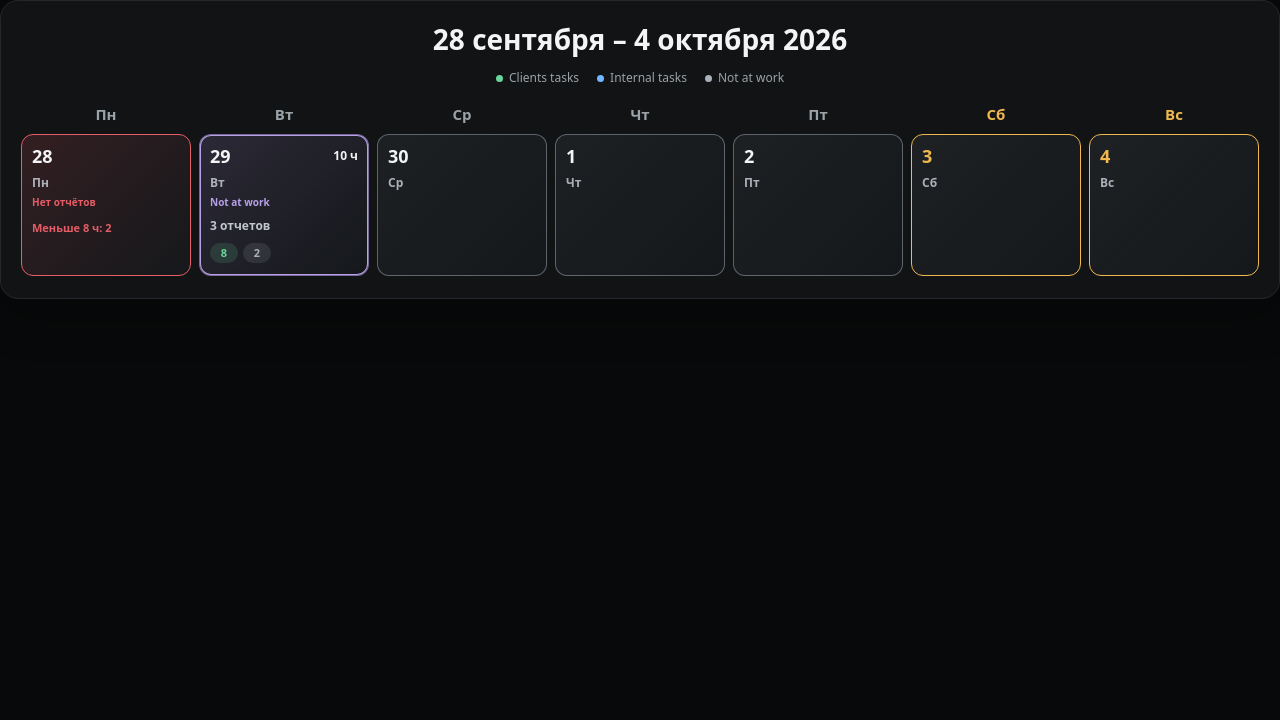
Test: week calendar hour warnings › lists today's deficit in the summary and counts absence hours toward the norm
Click the button named "Все отчёты за 29: 3" at (284, 157), box [210,147,358,166]
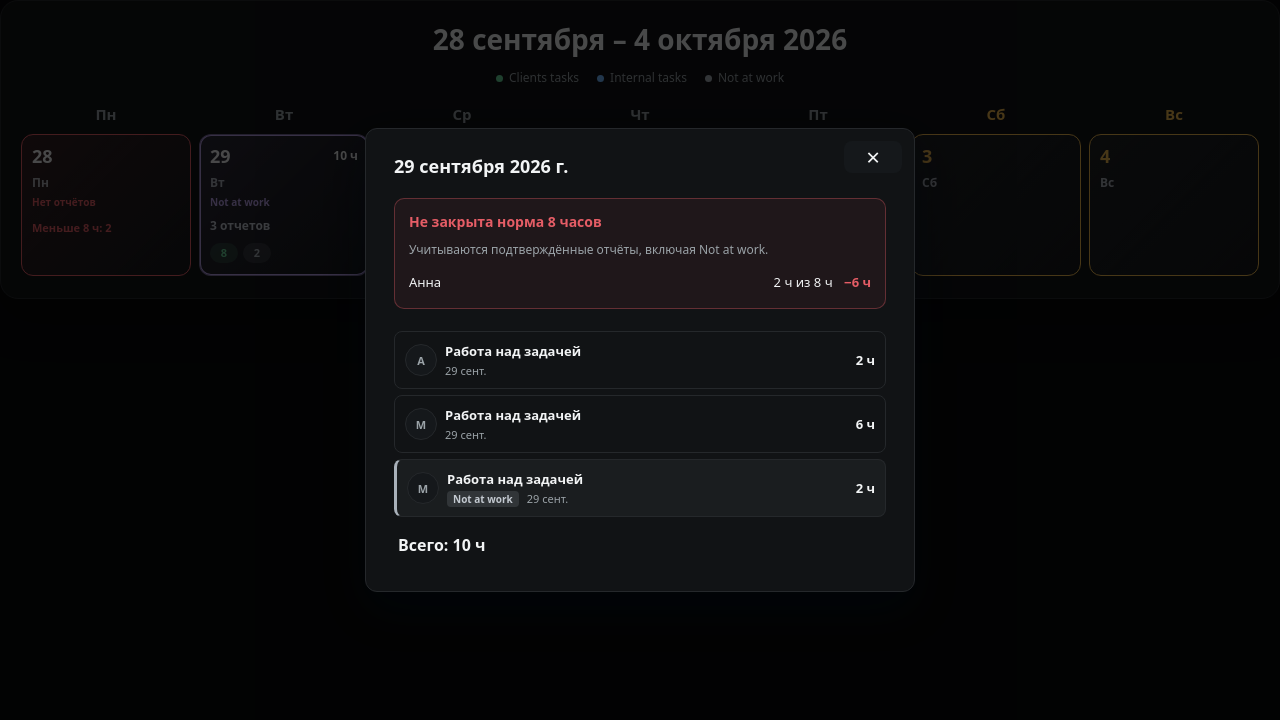
Check: the element named "Недостающие часы" does not show "Михаил", box [394,198,886,309]
Check: the number of list items is 1, box [409,269,871,296]
